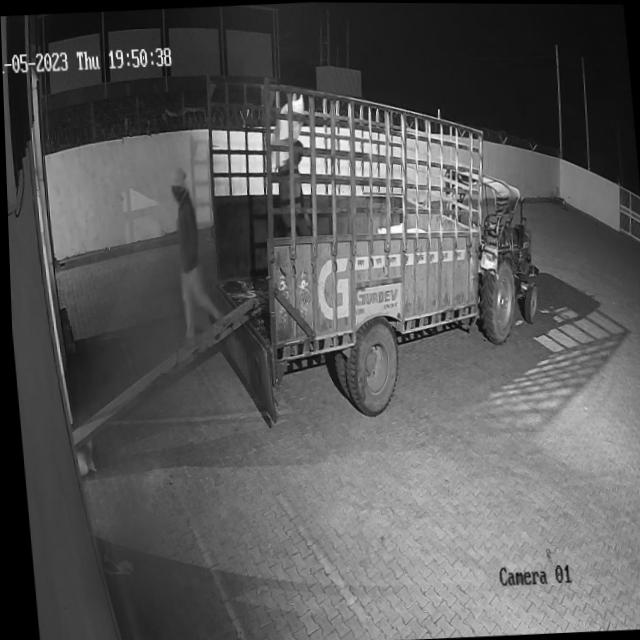sack: (267, 94, 308, 170)
